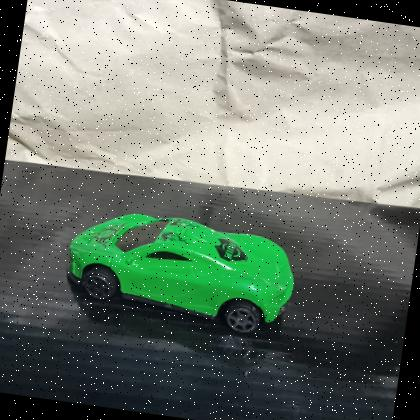Car: (55, 198, 306, 345)
